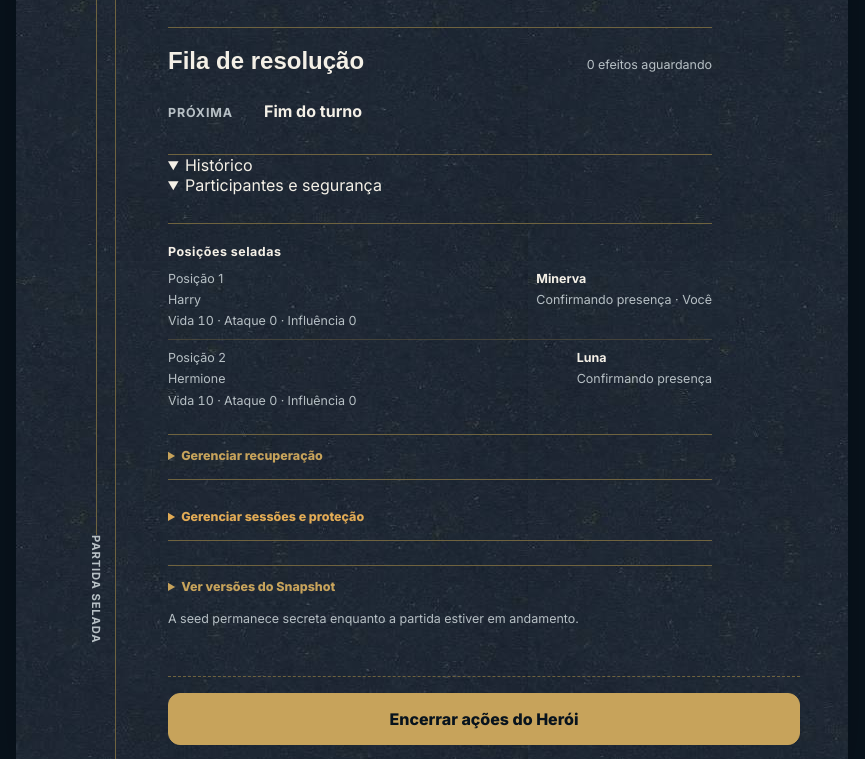
application shell › resynchronizes a stale game and waits for a new human decision
(page scrolled)
Step 1. Click the button "Encerrar ações do Herói" → coordinates (484, 719), box [168, 693, 800, 745]
(page scrolled)
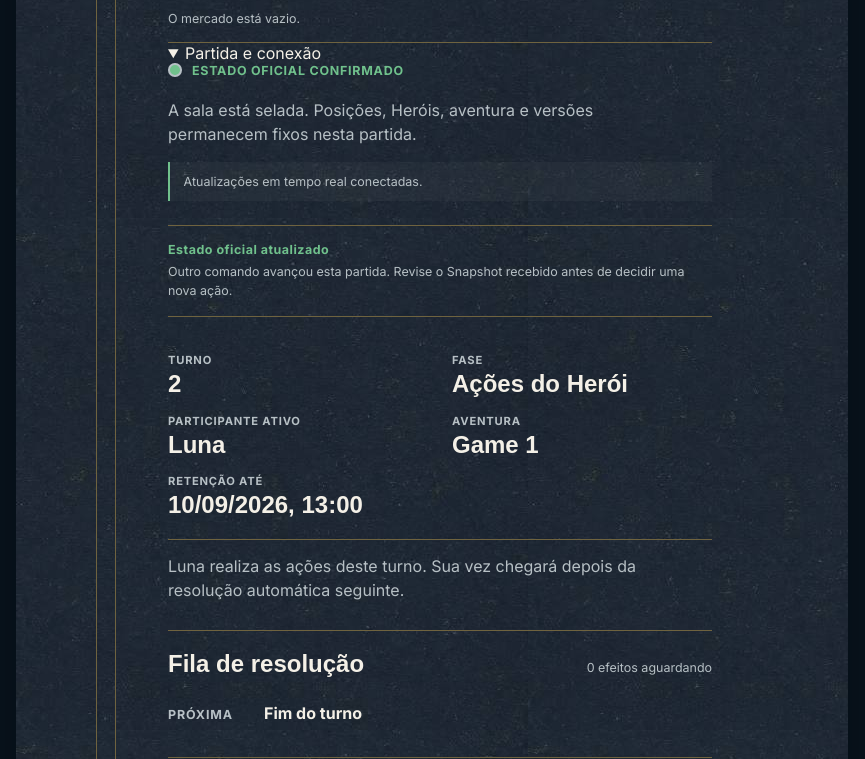
Expected: the text "Ações do Herói" is shown, [452, 370, 628, 397]
Expected: the text "Estado oficial atualizado" is shown, [168, 242, 329, 257]
Expected: the button "Encerrar ações do Herói" is gone
